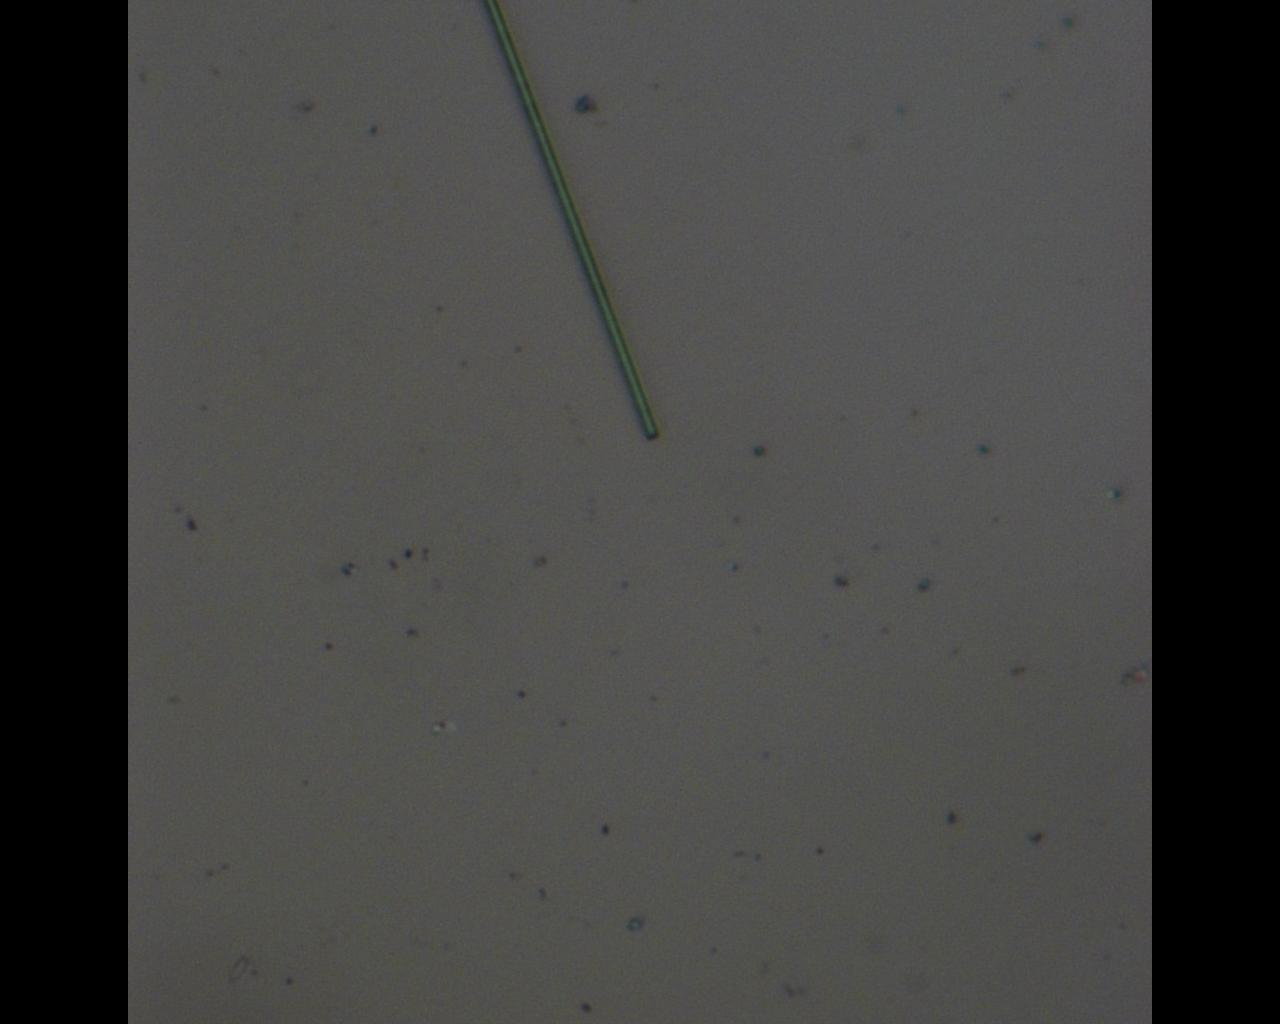fiber: (479, 0, 660, 441)
